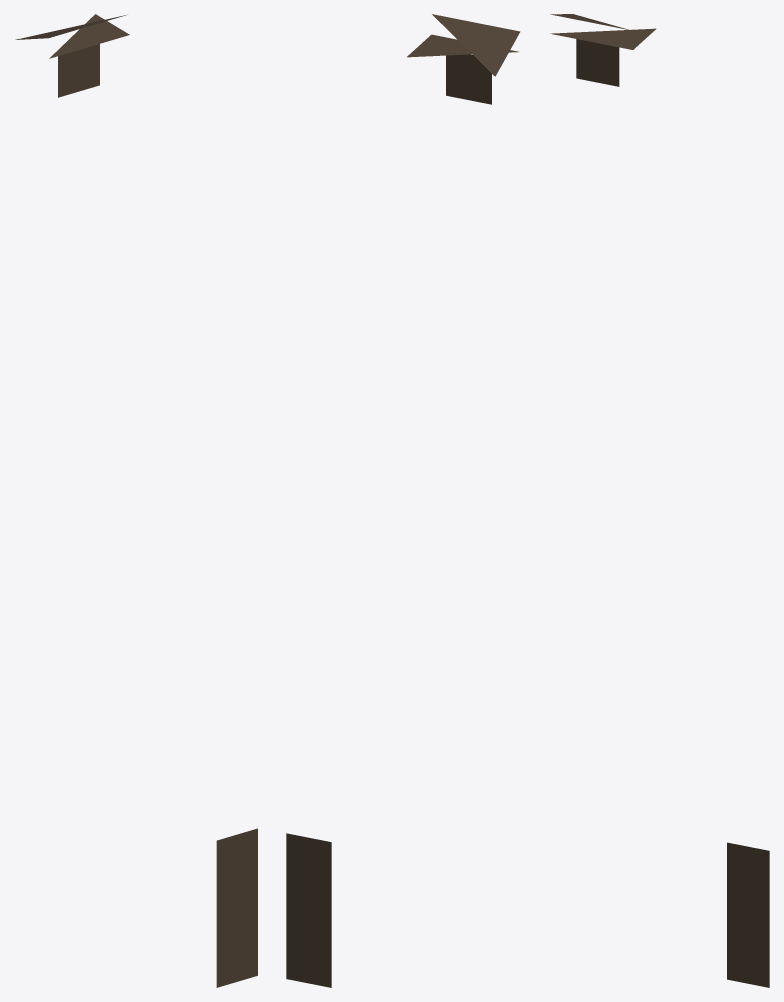
3 renders of one model, left to right at view 1: azimuth 30°, elevation 25°; view 2: azimuth 150°, elevation 25°; view 3: azimuth 330°, elevation 25°, orthographic. The views are drawn at different scales.
Visible parts, largest first — view 1: merged__lod1; view 2: merged__lod1; view 3: merged__lod1.
Part boxes in pixels (box(x1,y1,x2,y2)): merged__lod1: box(15, 14, 257, 987); merged__lod1: box(286, 14, 520, 987); merged__lod1: box(550, 14, 769, 987).
Size of the model in its own units: 10.52 by 44.28 by 2.76.
